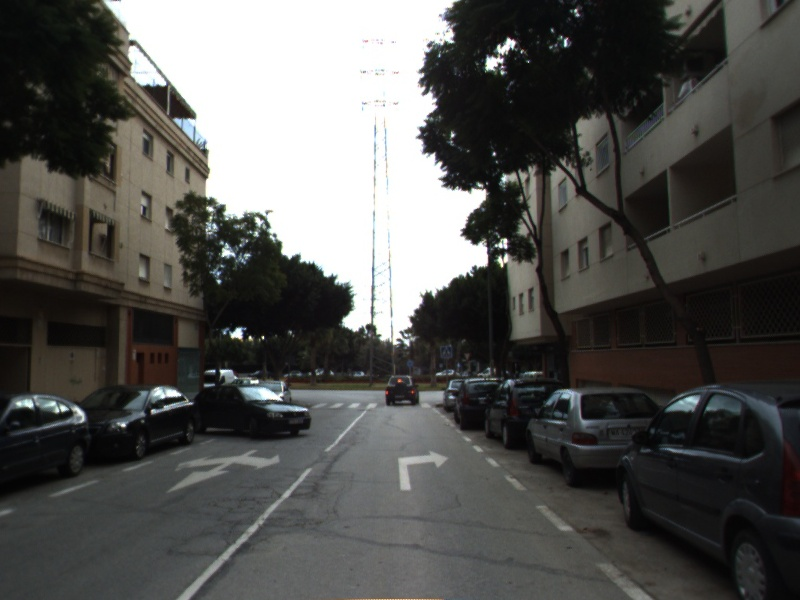RIGHT: (396, 449, 451, 492)
